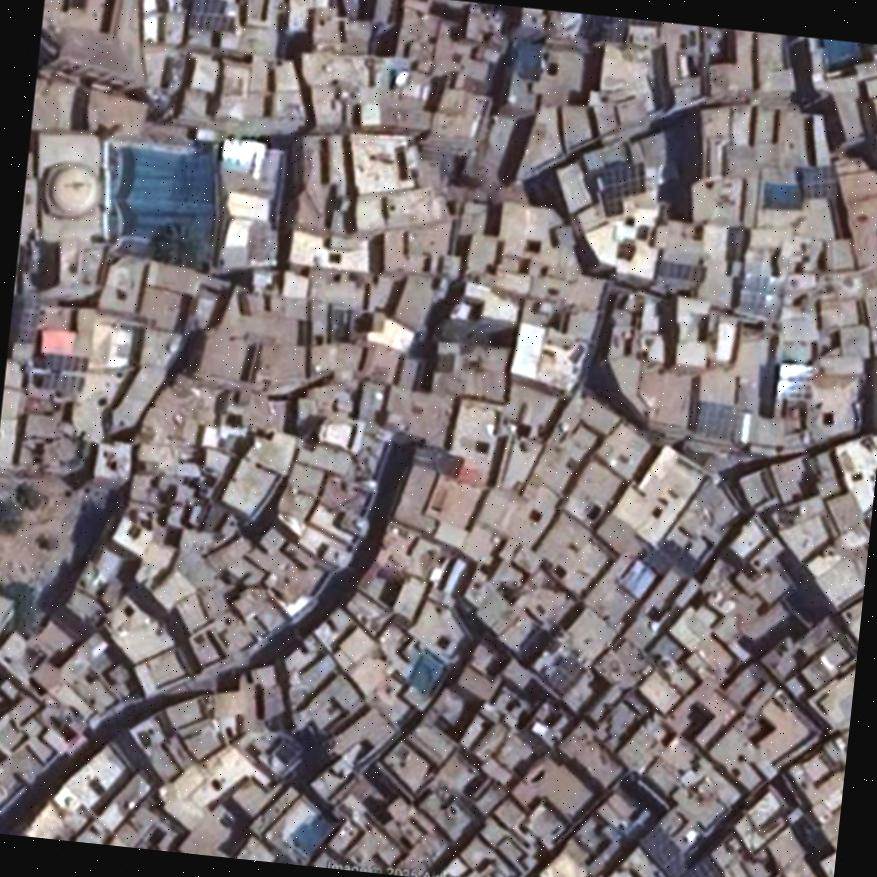Solarpanel: (191, 0, 245, 31), (547, 655, 585, 697), (600, 157, 643, 194), (800, 163, 838, 196), (657, 261, 705, 281), (33, 354, 86, 369), (680, 858, 718, 877), (39, 376, 83, 390)
